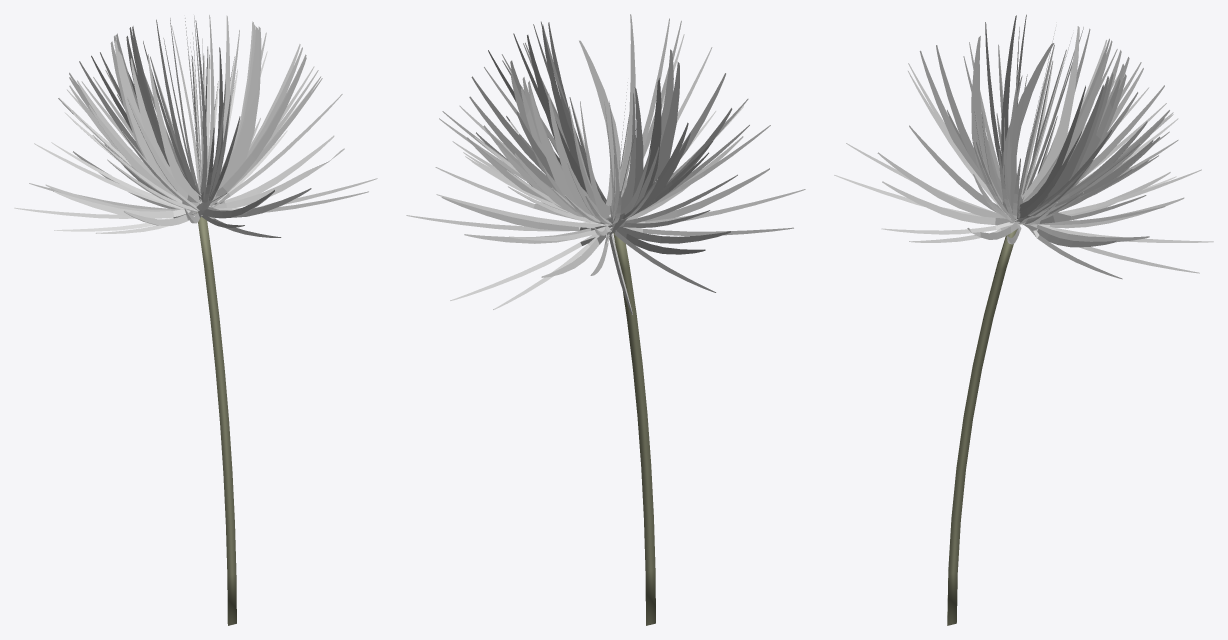
File: seed.glb
3 renders of one model, left to right at view 1: azimuth 30°, elevation 25°; view 2: azimuth 150°, elevation 25°; view 3: azimuth 270°, elevation 25°, orthographic. The views are drawn at different scales.
Visible parts, largest first — view 1: seed_0; view 2: seed_0; view 3: seed_0.
Boxes of the visible parts, x1,y1,x2,y2 form: seed_0: (14,15,377,625); seed_0: (406,14,805,625); seed_0: (834,14,1213,625).
Bounding box in the file's own units: 56.25 × 104 × 60.39.
